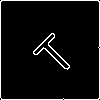T: (25, 25, 79, 79)
